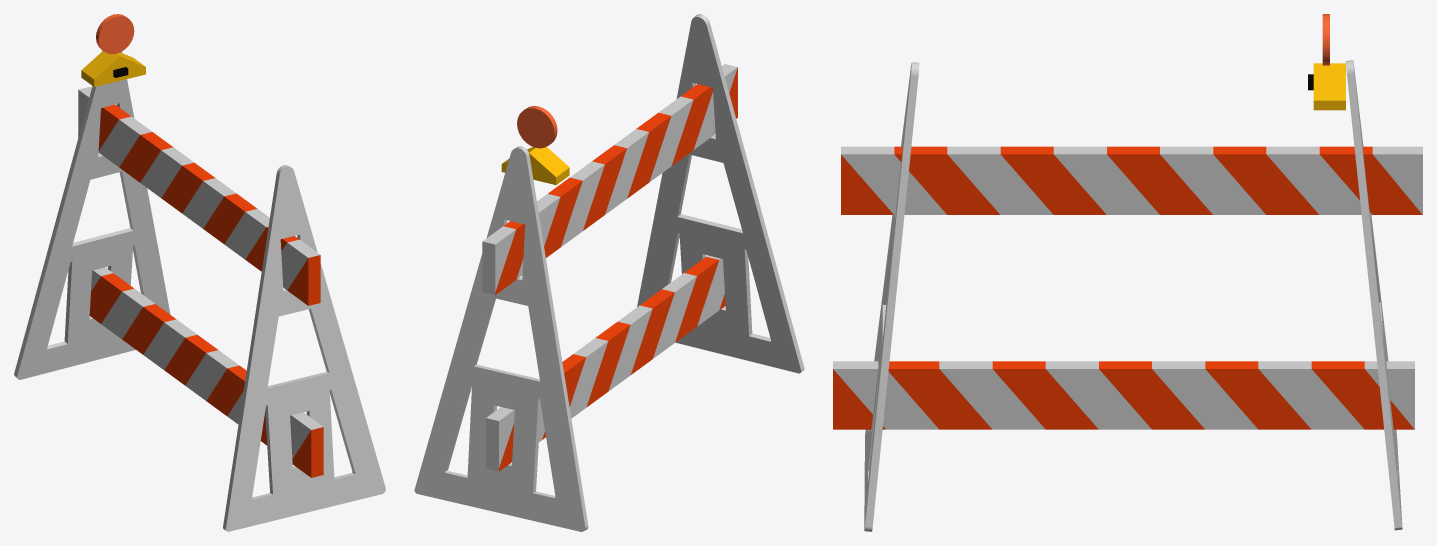
Rendered from construction_barricade.dae.
3 renders of one model, left to right at view 1: azimuth 30°, elevation 25°; view 2: azimuth 150°, elevation 25°; view 3: azimuth 270°, elevation 25°, orthographic. The views are drawn at different scales.
Parts seen in each view (by area): view 1: SketchUp (×25); view 2: SketchUp (×25); view 3: SketchUp (×27).
Boxes of the visible parts, x1,y1,x2,y2 form: SketchUp (×25): (14,14,385,531); SketchUp (×25): (414,14,804,531); SketchUp (×27): (833,60,1422,531).
Size of the model in its own units: 91.6 by 229 by 199.
